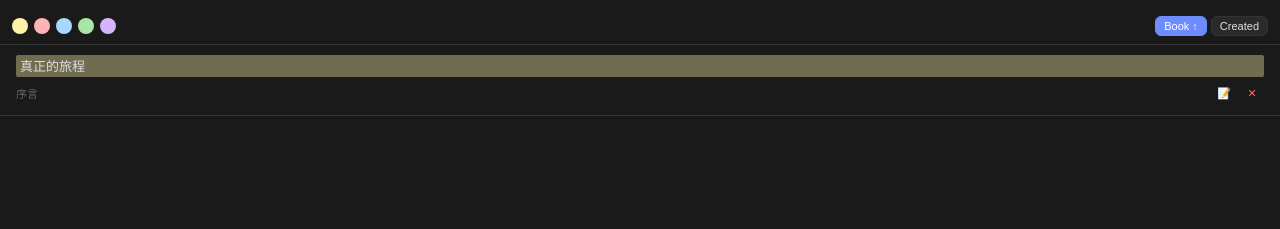
Test case: HighlightSidebar › opens note editor when add note button is clicked
Click the button titled "Add note".
click(1224, 93)  # box [1212,81,1236,105]
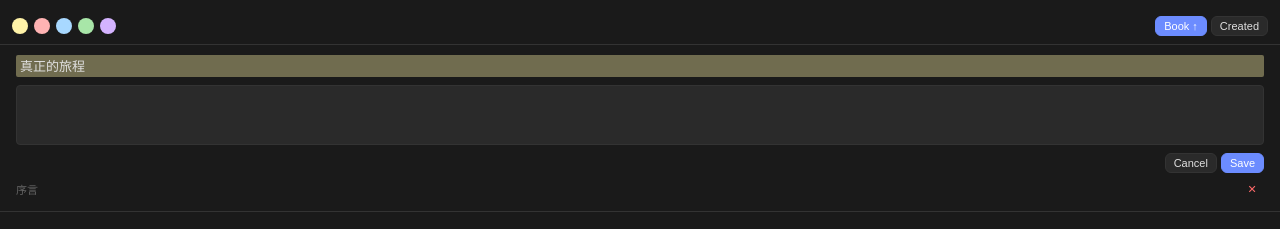
expect the text box is shown: met, box [16,85,1264,145]
